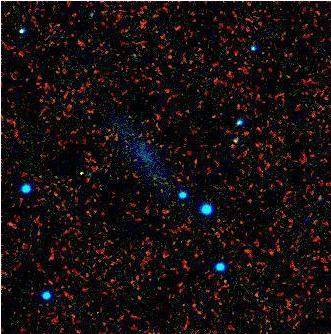star: (64, 157, 94, 187)
